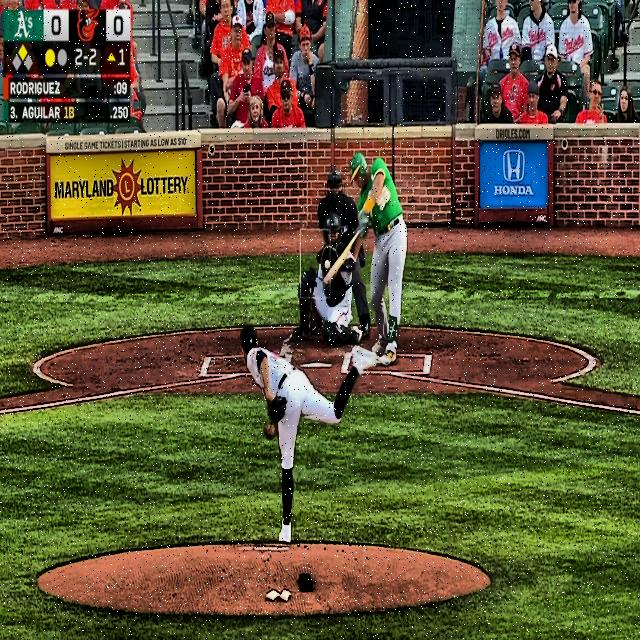baseball: (324, 259, 330, 270)
